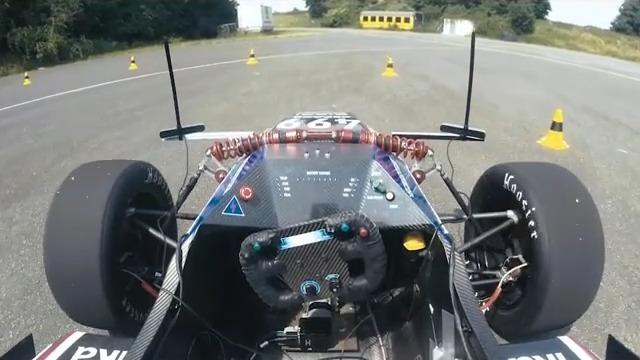yellow_cone: (536, 108, 571, 151), (381, 57, 399, 77), (246, 48, 260, 65), (128, 56, 139, 71), (23, 71, 32, 86)
